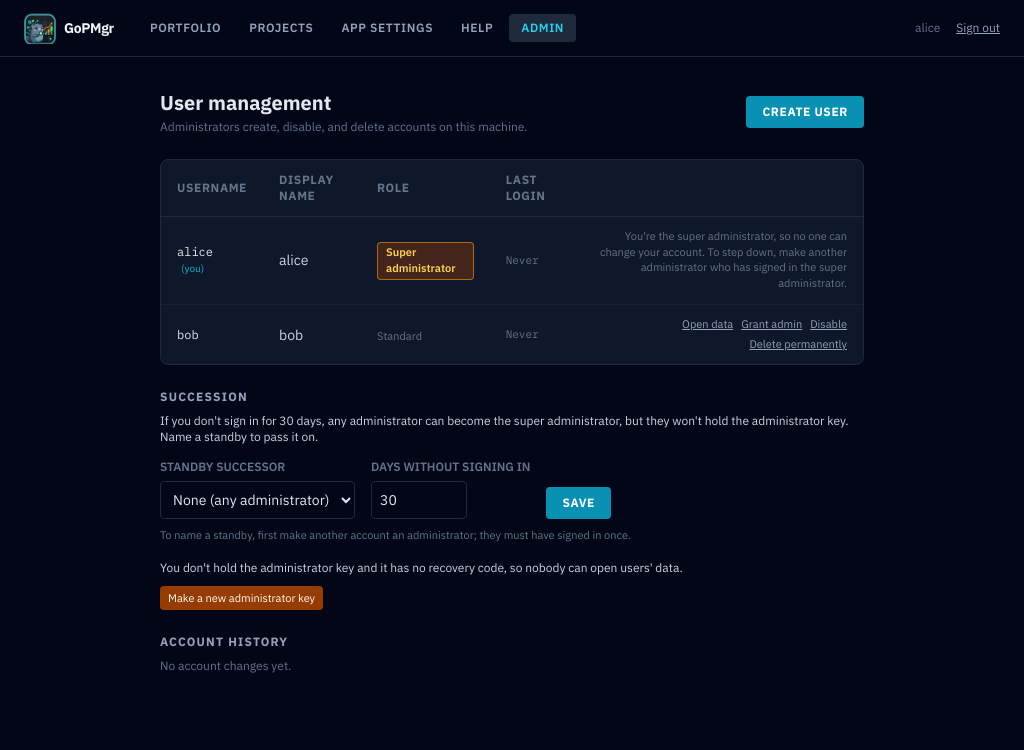
Test: AdminPanel new-account recovery codes › saves the new account's codes through the desktop dialog
Step 1. Click the button "Create user" → point(805, 112), box [746,96,864,128]
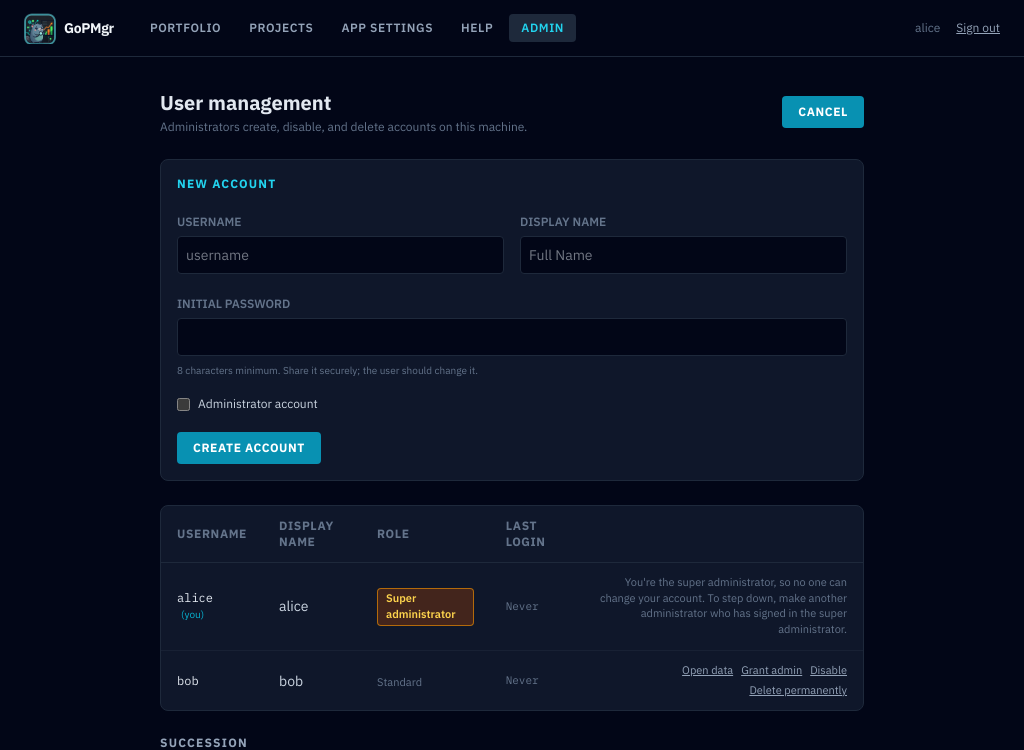
Step 2. Type "carol" into the field with placeholder "Username" → point(340, 255), box [177,236,504,274]
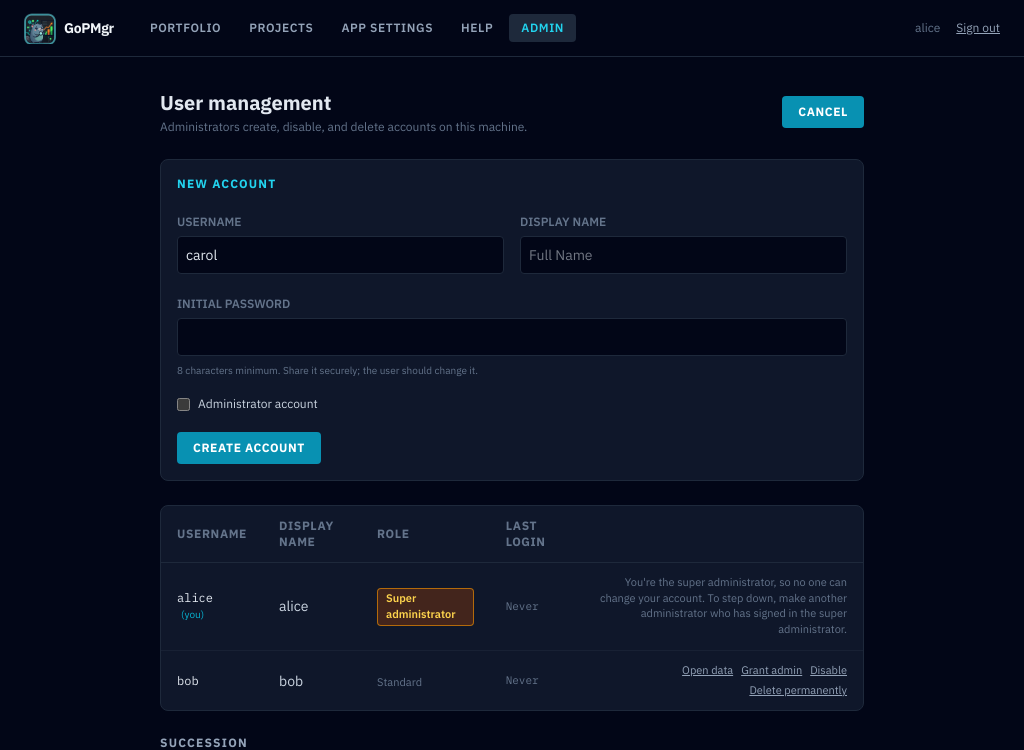
Step 3. Type "correct horse battery" into the password field labelled "Initial password" → point(512, 337), box [177,318,847,356]
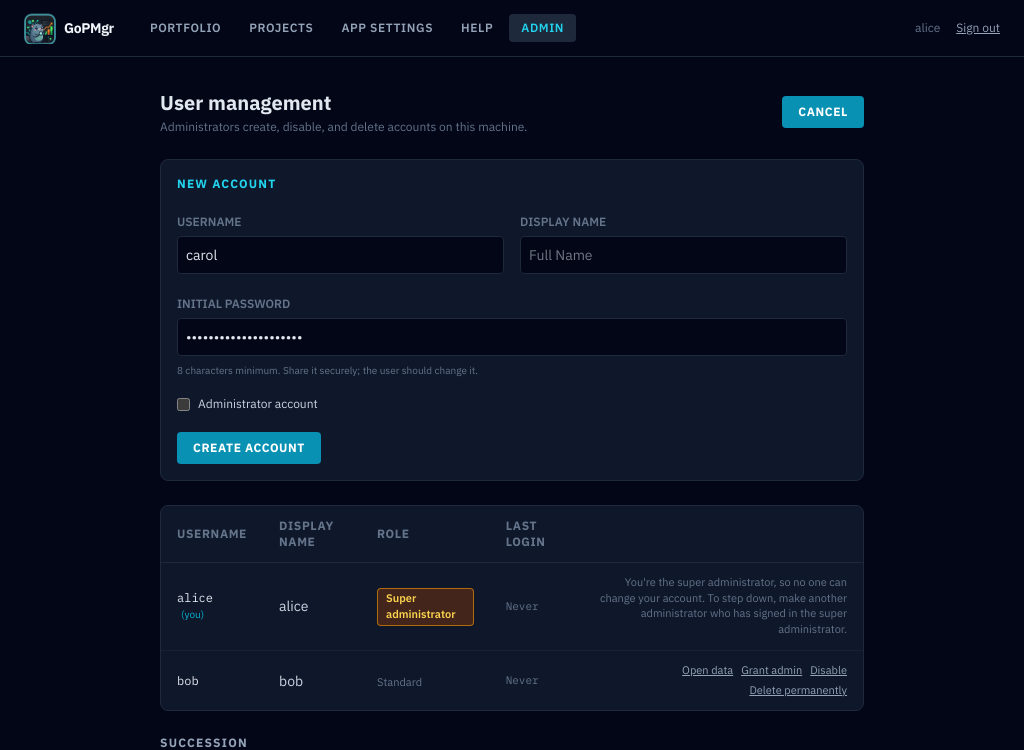
Step 4. Submit the form, box [160,159,864,481]
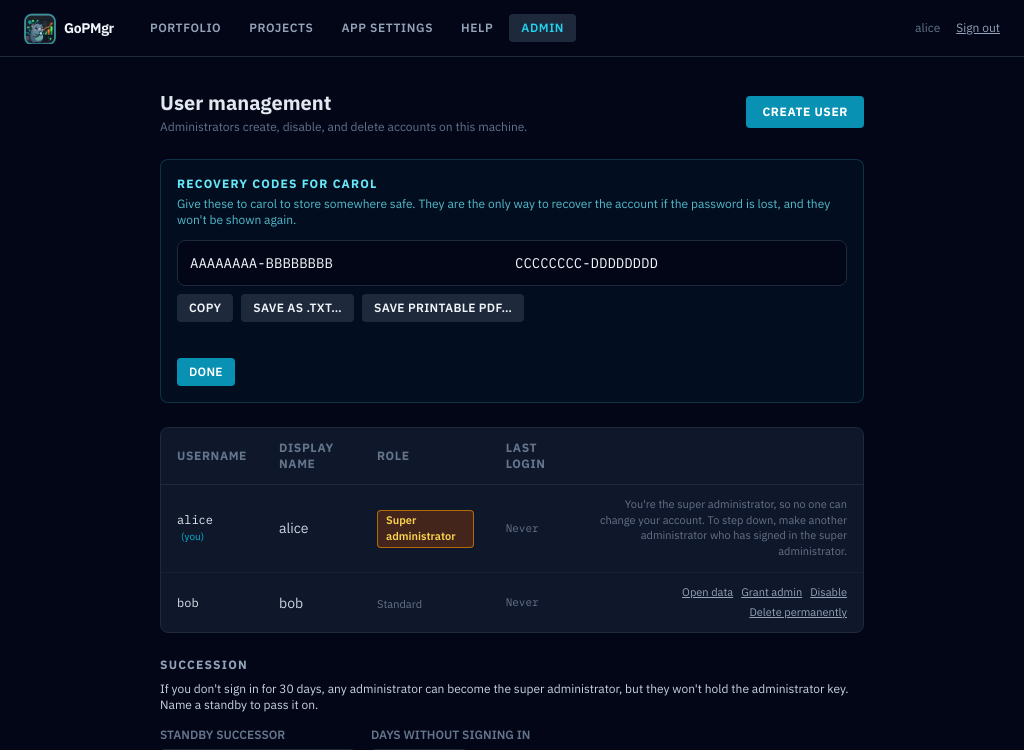
Now the heading "Recovery codes for carol" is shown, box [177,176,378,191]
Step 5. Click the button "Save as .txt…" → point(298, 308), box [241,294,354,322]
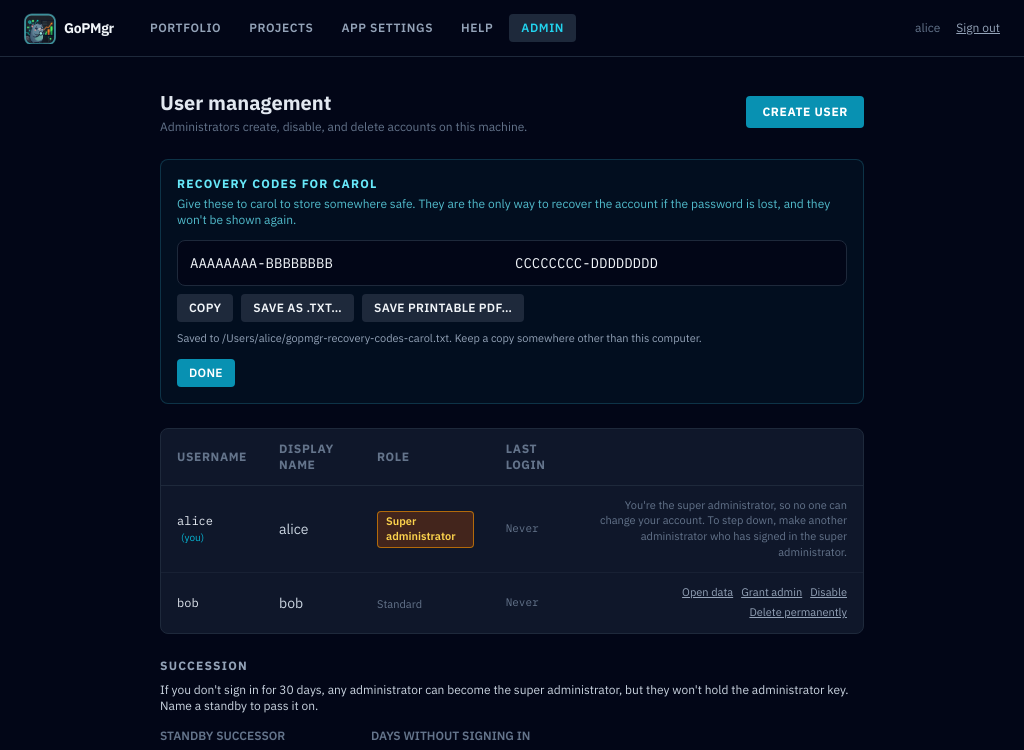
Now the text "Saved to /Users/alice/gopmgr-recovery-codes-carol.txt. Keep a copy somewhere other than this computer." is shown, box [177,331,702,345]
